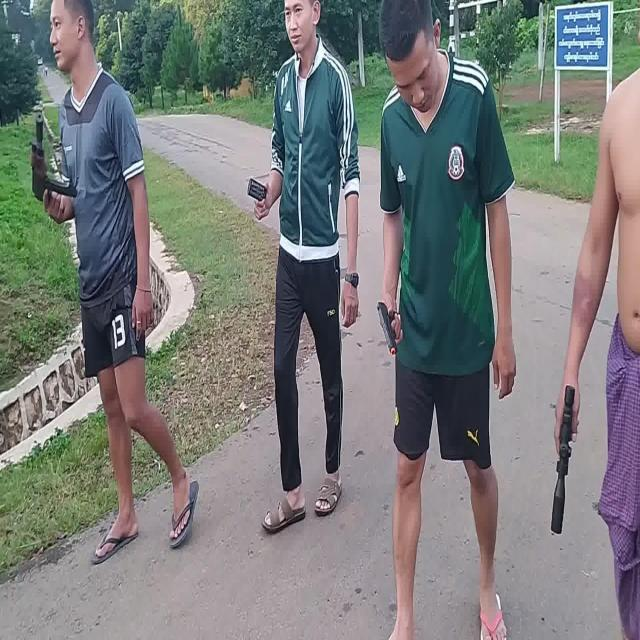gun: (30, 115, 76, 203), (376, 301, 399, 353)
